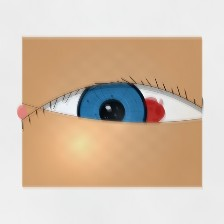hemorrhage_spot: (110, 87, 174, 138)
